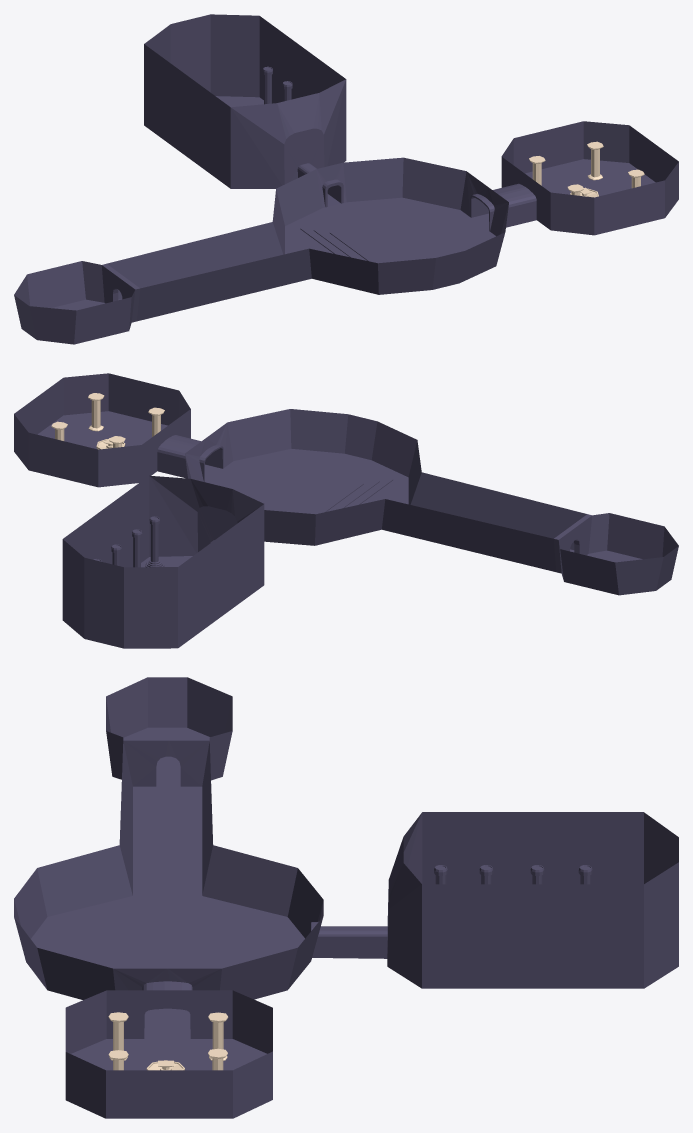
The model's file is firstDungeonStaticWorld.fbx.
3 renders of one model, top to bottom at view 1: azimuth 30°, elevation 25°; view 2: azimuth 150°, elevation 25°; view 3: azimuth 270°, elevation 25°, orthographic. The views are drawn at different scales.
Parts seen in each view (by area): view 1: DungeonGround; view 2: DungeonGround; view 3: DungeonGround.
Boxes of the visible parts, <box> form: DungeonGround: <box>14,14,678,344</box>; DungeonGround: <box>14,373,678,648</box>; DungeonGround: <box>14,677,678,1118</box>.
Size of the model in its own units: 221 by 27.33 by 157.
